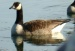goose: (7, 1, 74, 43)
